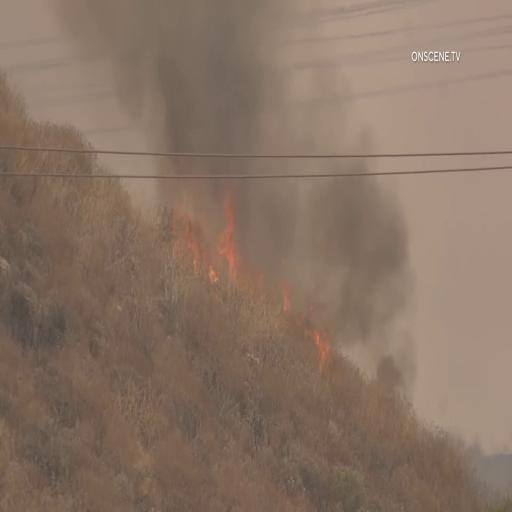fire: (209, 204, 237, 277)
smoke: (100, 0, 288, 193)
